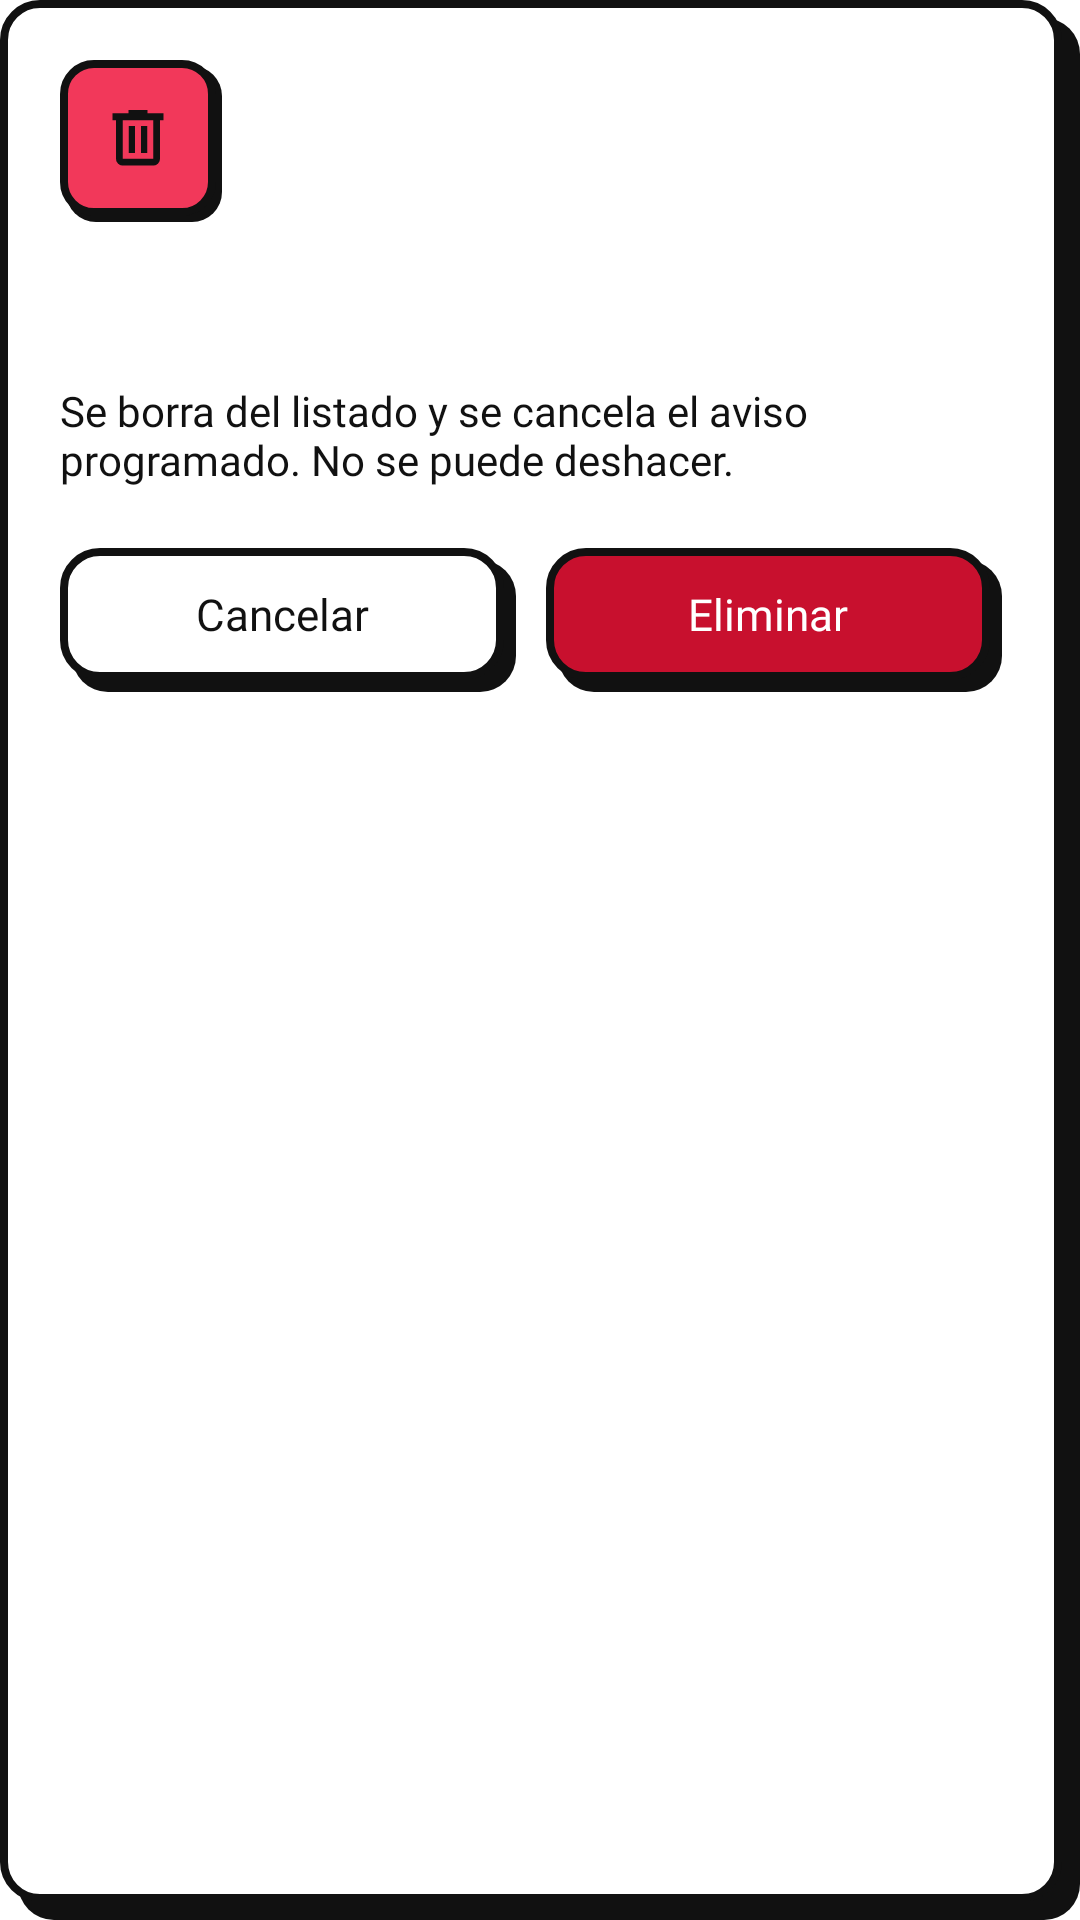

Locate icon controls on the screen. Image size 1080×1920, boxes as (x1, y1, x2, y2).
delete: (112, 110, 164, 166)
